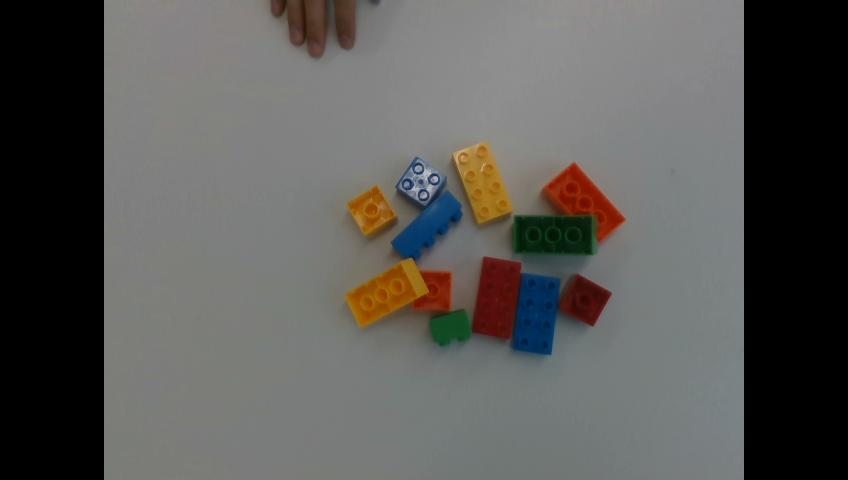2x2_blue: (396, 155, 447, 207)
2x2_green: (431, 309, 471, 345)
2x2_orange: (412, 270, 451, 309)
2x2_red: (559, 273, 611, 324)
2x2_yellow: (347, 184, 395, 234)
4x2_blue: (392, 189, 459, 261), (511, 273, 559, 353)
4x2_green: (515, 213, 593, 254)
4x2_orange: (544, 162, 623, 240)
4x2_red: (472, 258, 519, 336)
4x2_yellow: (345, 257, 424, 326), (451, 140, 511, 229)
